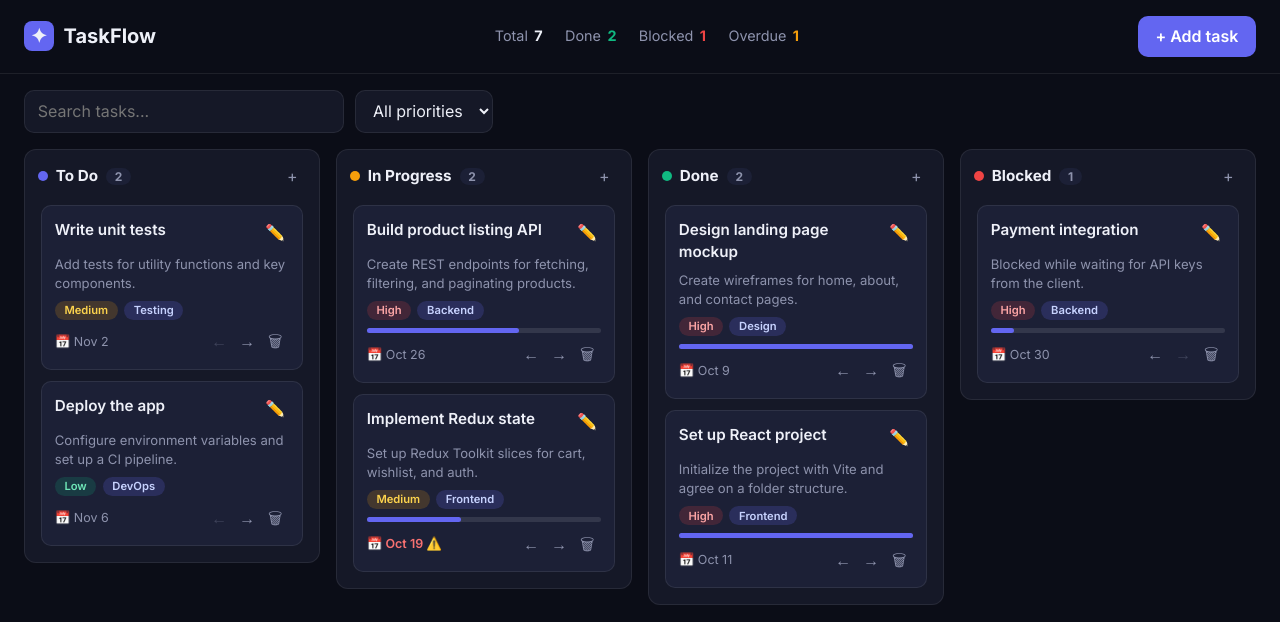
Test case: TaskFlow board › deletes a task only after confirmation
This screenshot has width=1280, height=622.
Click the button named "Delete Write unit tests" at (275, 342), box 261,328 -> 289,356
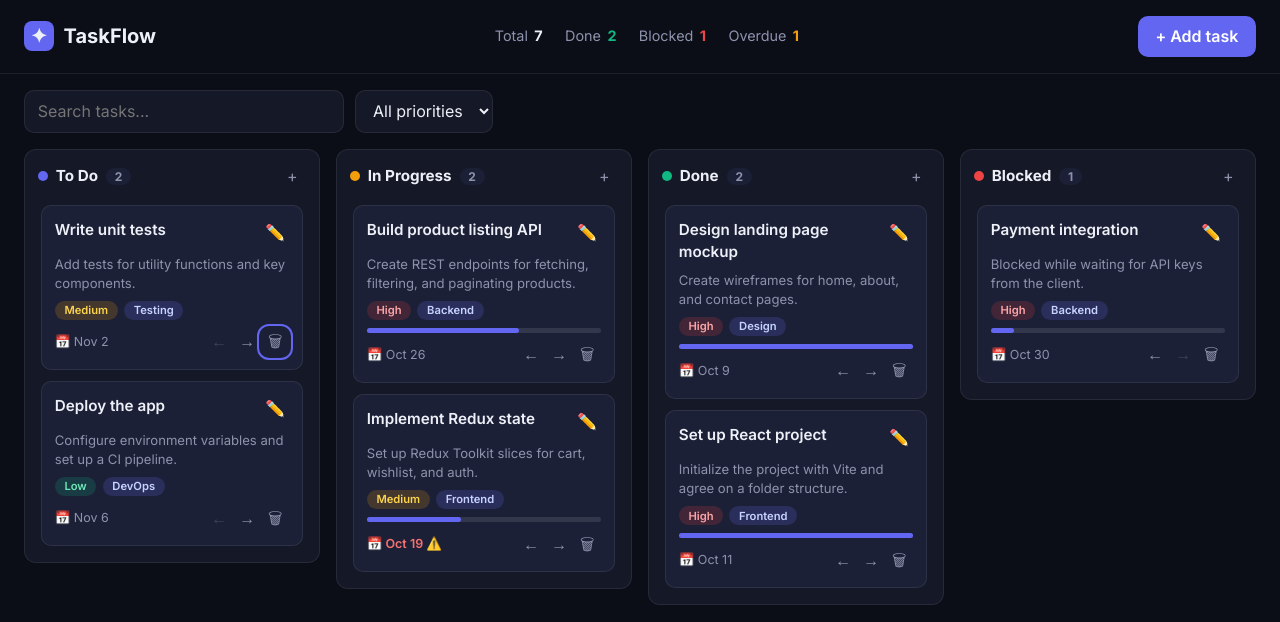
Expected: the heading "Write unit tests" is shown, 55,218 -> 166,240
Click the button named "Delete Write unit tests" at (275, 342), box 261,328 -> 289,356
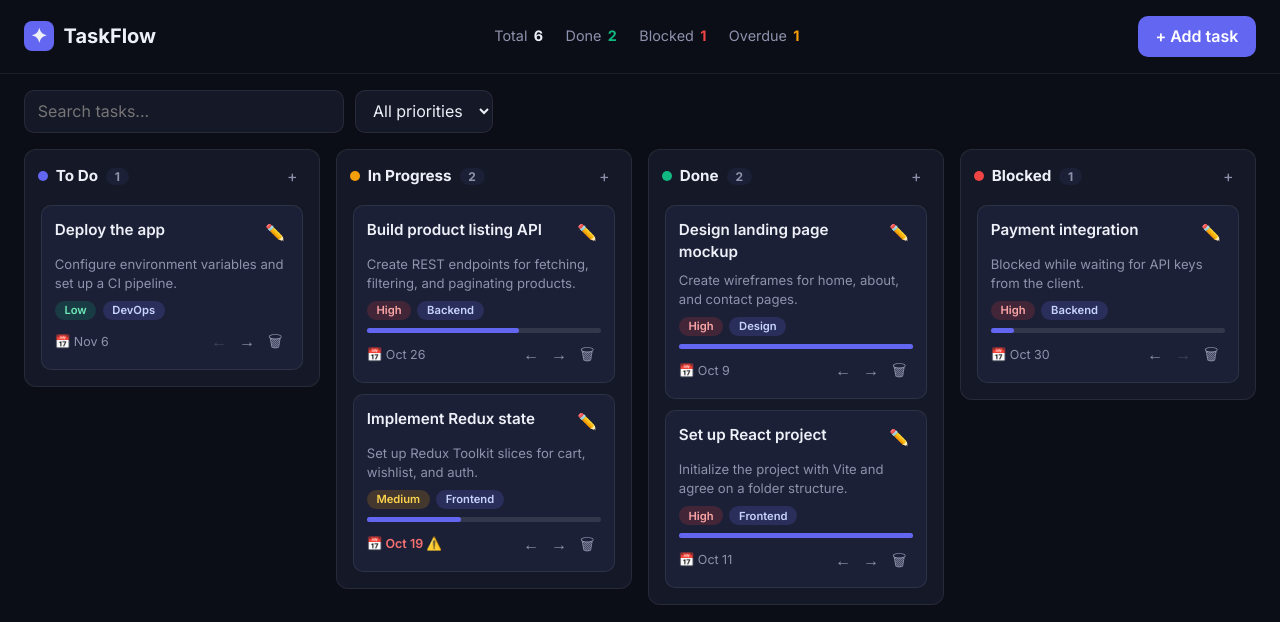
Expected: the heading "Write unit tests" is gone
